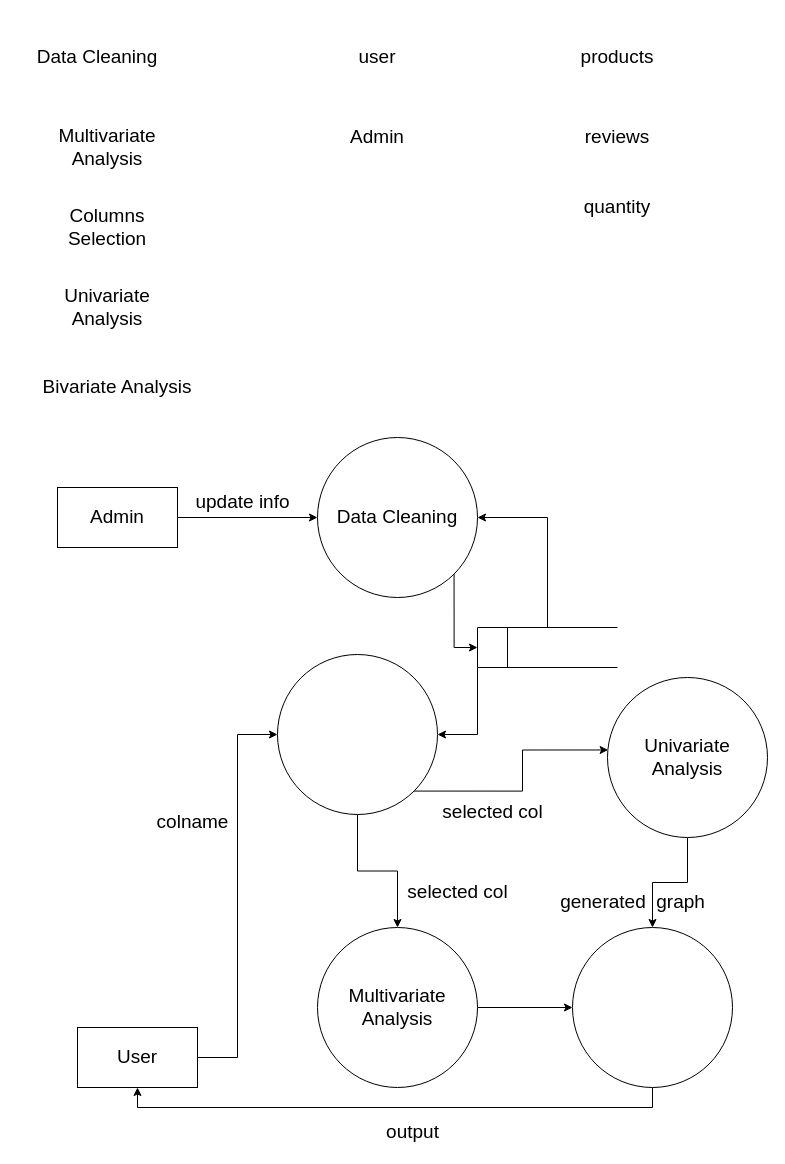
This 785x1164 diagram has some shape labels left out. Each missing label, with the centre of its shape:
"Column Selection" belongs at point 357,734.
"d1 products" belongs at point 547,647.
"Result Viewer" belongs at point 652,1007.
